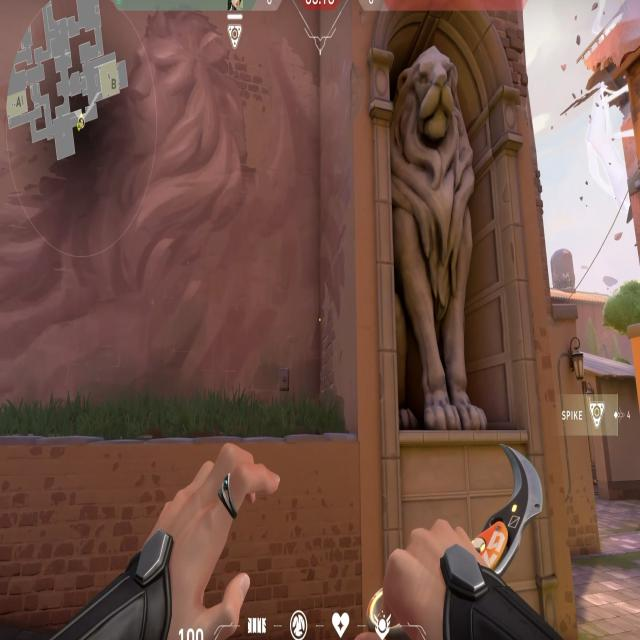Lion_Corner: (350, 19, 546, 449)
